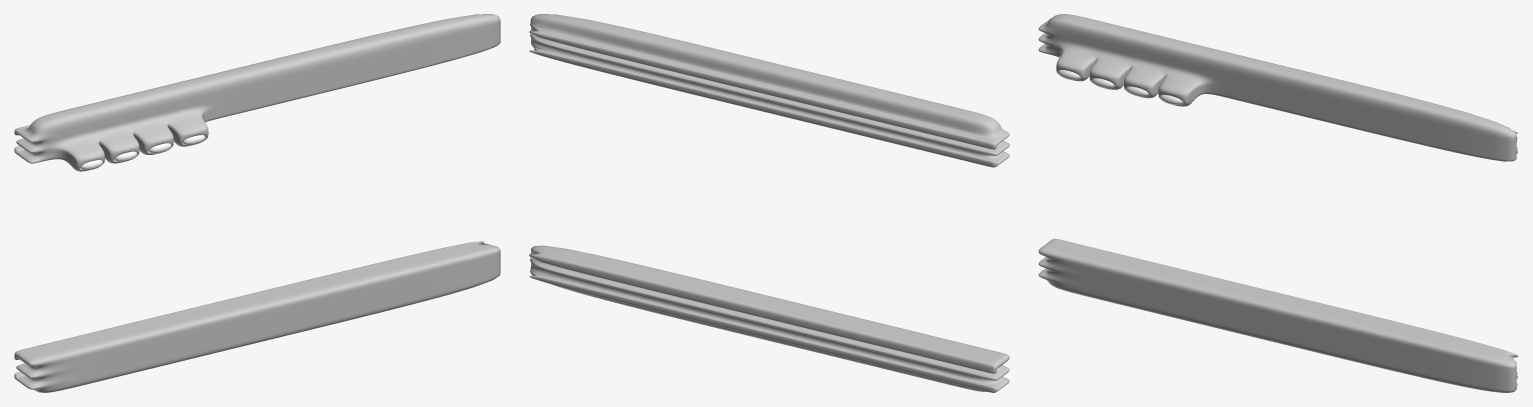
File: SM_Settings_Menu_Frame_00.fbx
The picture shows the model from 3 angles, left to right: view 1: azimuth 30°, elevation 25°; view 2: azimuth 150°, elevation 25°; view 3: azimuth 330°, elevation 25°; orthographic projection.
Parts seen in each view (by area): view 1: SM_Settings_Menu_Frame_00; view 2: SM_Settings_Menu_Frame_00; view 3: SM_Settings_Menu_Frame_00.
Boxes of the visible parts, x1=… form: SM_Settings_Menu_Frame_00: x1=14, y1=14, x2=500, y2=392; SM_Settings_Menu_Frame_00: x1=529, y1=14, x2=1009, y2=392; SM_Settings_Menu_Frame_00: x1=1038, y1=14, x2=1518, y2=392.
Bounding box in the file's own units: 2102 × 1153 × 258.
